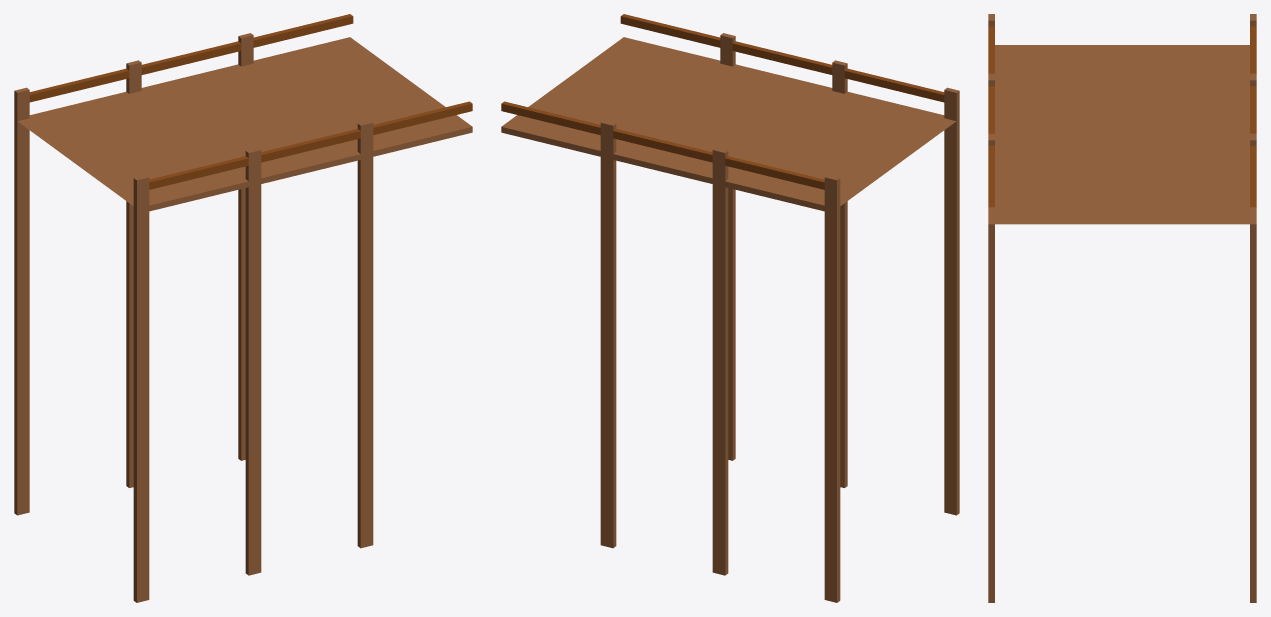
Rendered from BridgeTile.fbx.
3 views of the same model, side by side, from view 1: azimuth 30°, elevation 25°; view 2: azimuth 150°, elevation 25°; view 3: azimuth 270°, elevation 25° (orthographic). The views are drawn at different scales.
Parts seen in each view (by area): view 1: Tile; view 2: Tile; view 3: Tile.
Part boxes in pixels (x1=…): Tile: x1=14, y1=14, x2=472, y2=602; Tile: x1=501, y1=14, x2=959, y2=602; Tile: x1=988, y1=14, x2=1256, y2=602.
Size of the model in its own units: 365 by 439 by 231.
Materials: 1 (1 with a texture image).
